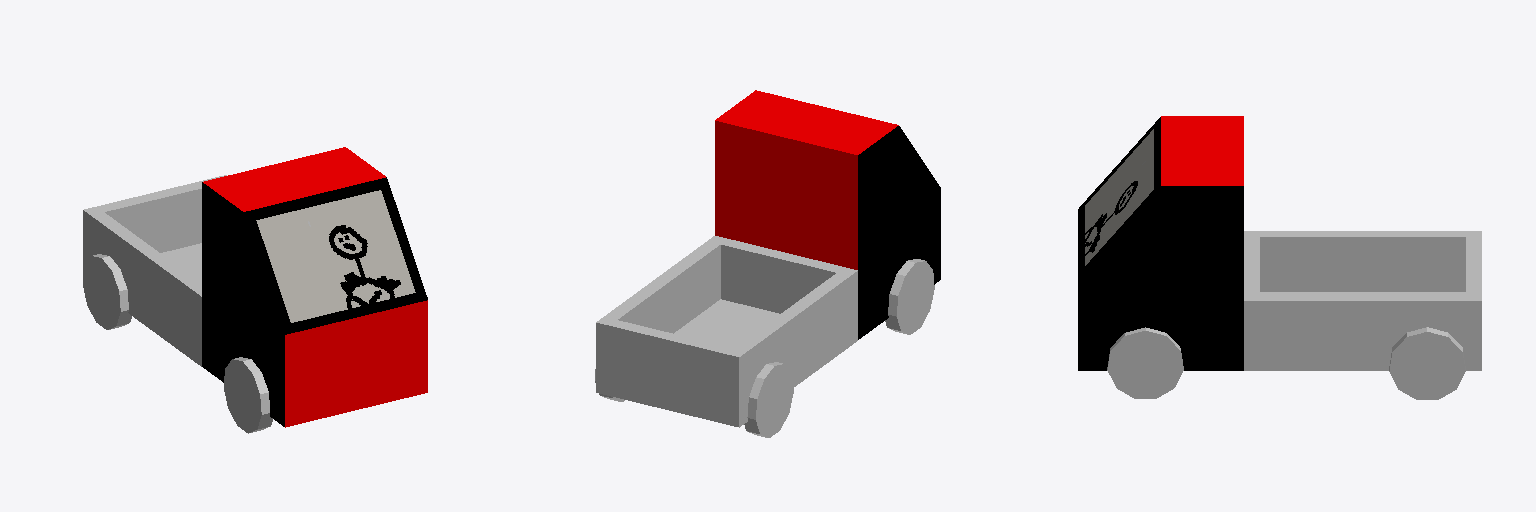
3 renders of one model, left to right at view 1: azimuth 30°, elevation 25°; view 2: azimuth 150°, elevation 25°; view 3: azimuth 270°, elevation 25°, orthographic.
Visible parts, largest first — view 1: Front_Cube, Back_Cube.001; view 2: Back_Cube.001, Front_Cube; view 3: Back_Cube.001, Front_Cube.
Part boxes in pixels (x1,y1,x2,y2): Front_Cube: (202, 147, 427, 427); Back_Cube.001: (83, 175, 272, 433); Back_Cube.001: (595, 236, 934, 437); Front_Cube: (715, 90, 940, 339); Back_Cube.001: (1107, 231, 1481, 399); Front_Cube: (1078, 116, 1243, 370).
Size of the model in its own units: 2.25 by 2.8 by 4.87.
Materials: 2 (1 with a texture image).